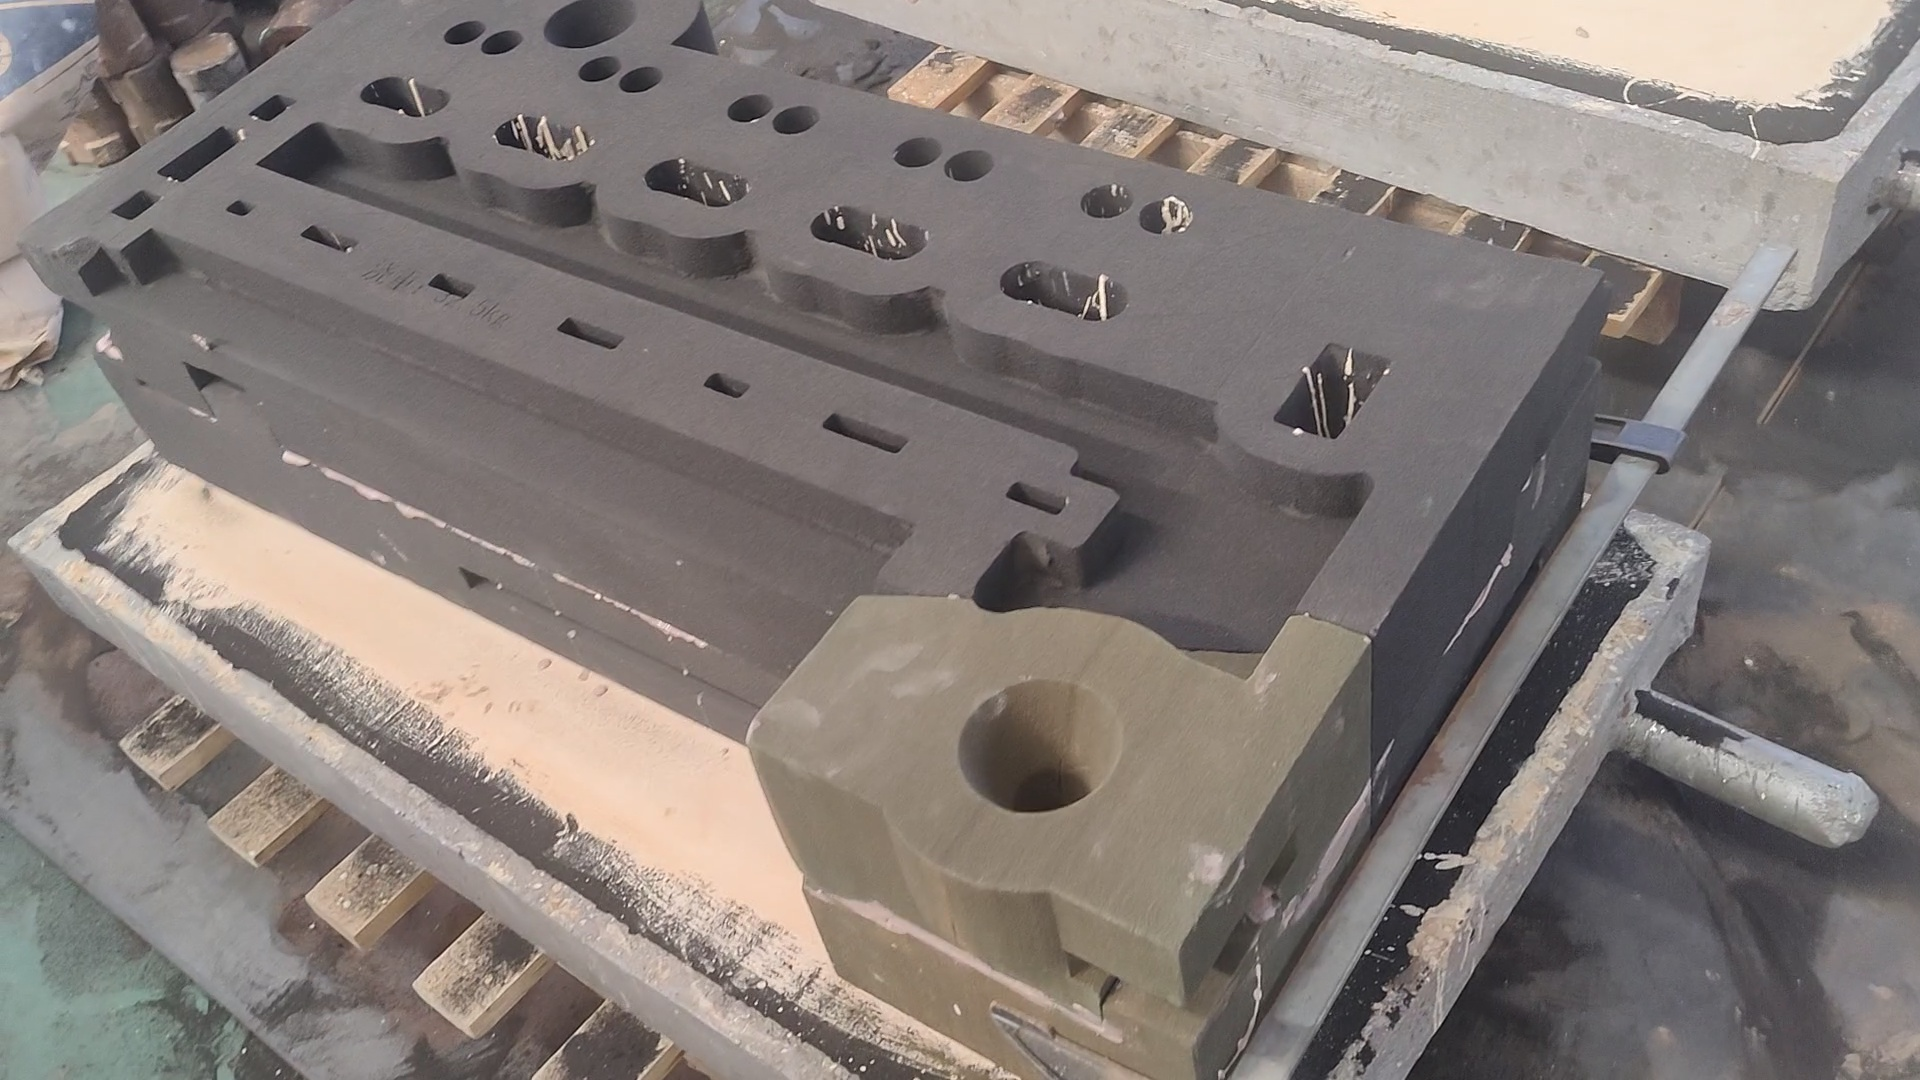pouring hole: (956, 680, 1121, 814), (543, 1, 638, 49)
